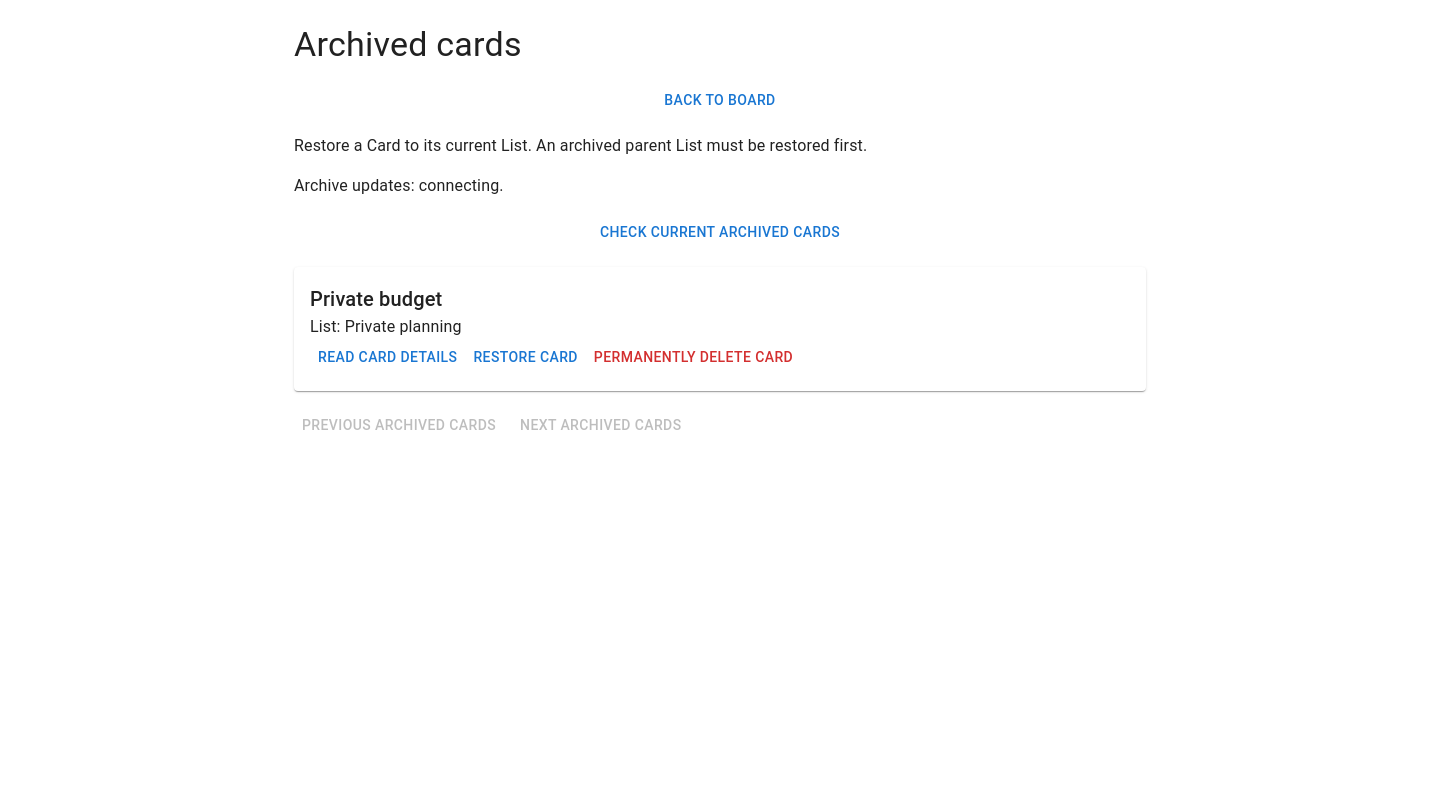
Test case: reports card deletion conflict without treating it as success
Click the button with aria-label "Permanently delete Private budget card" at (693, 357), box [586,339,801,376]
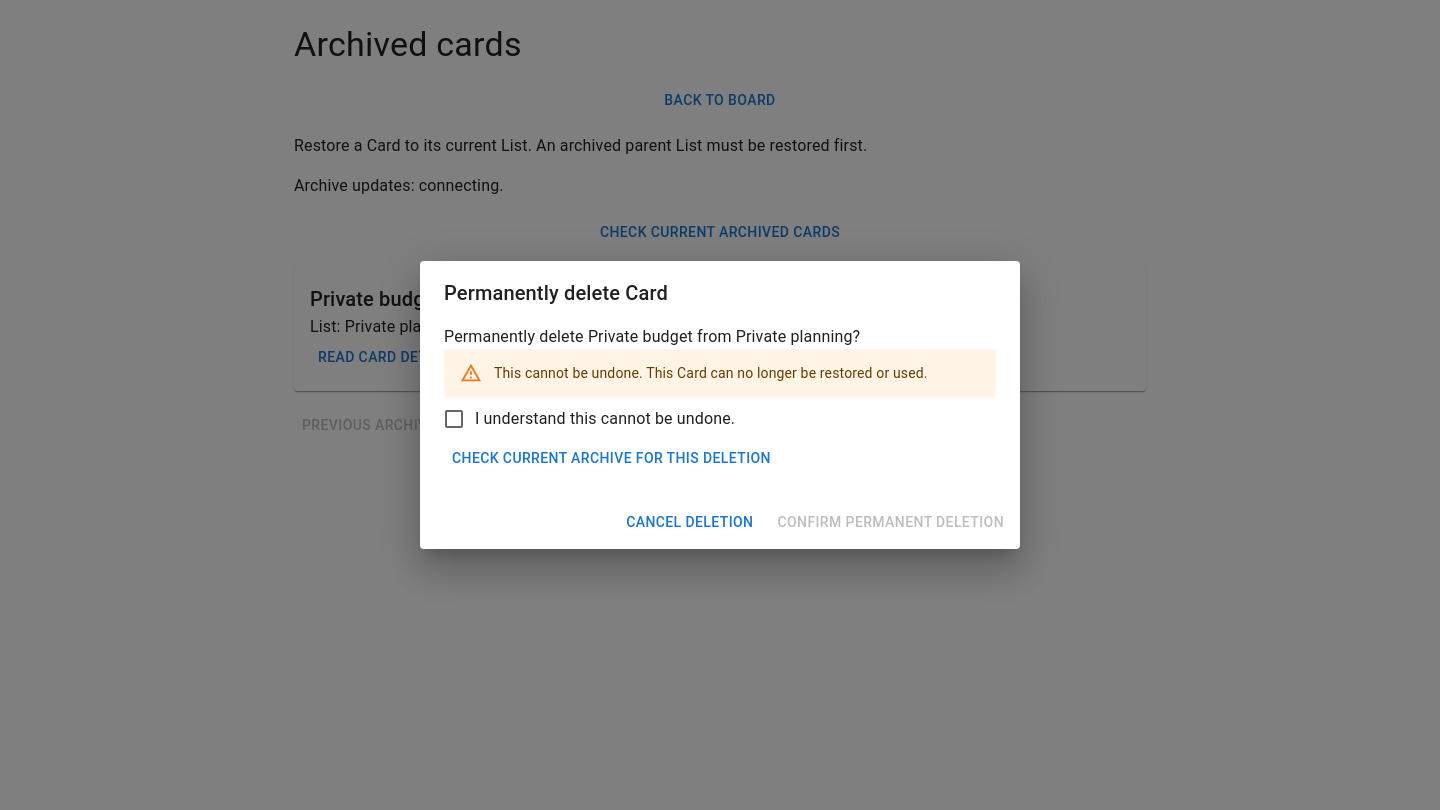
Click the checkbox labelled "I understand this cannot be undone." at (589, 418), box [442,406,735,430]
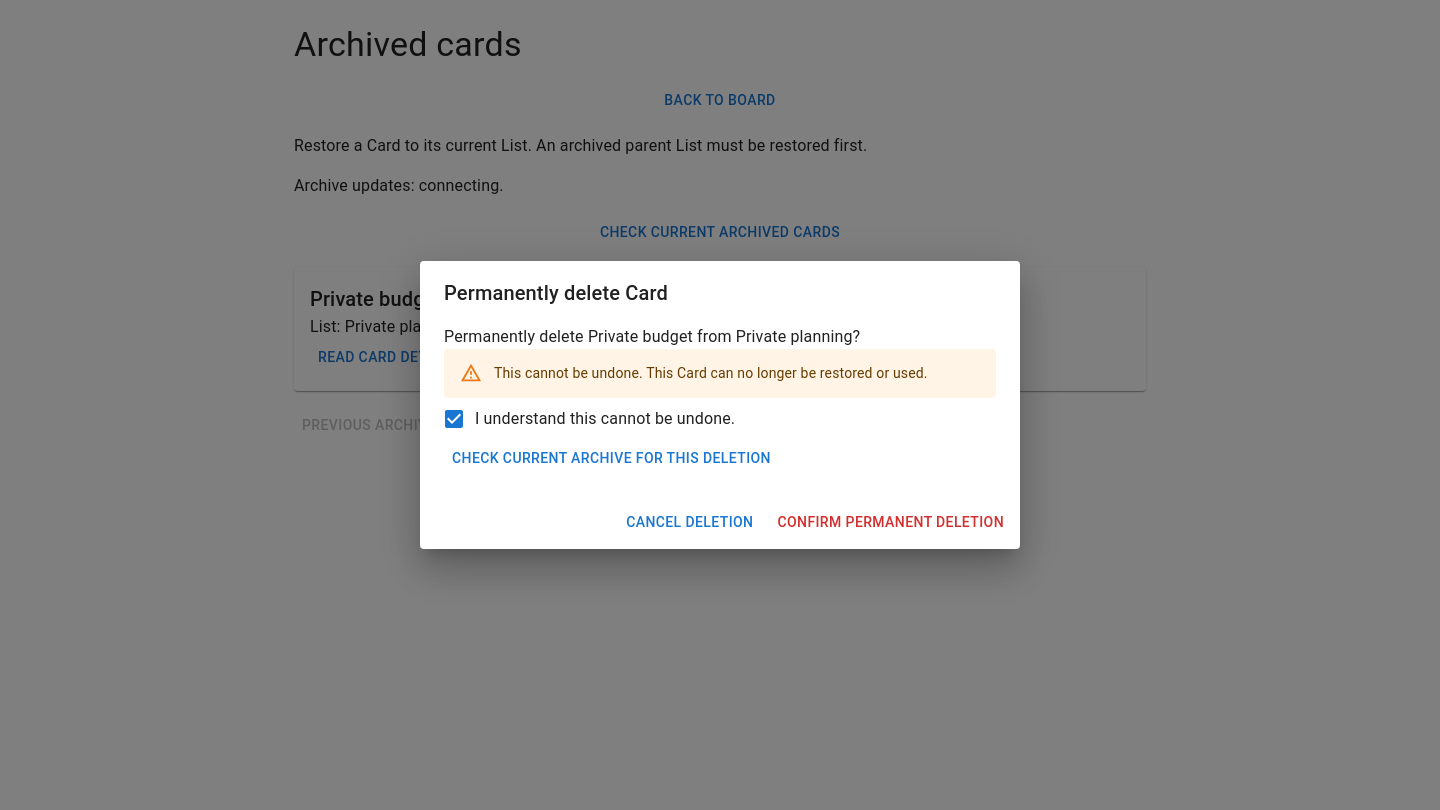
Click the button "Confirm permanent deletion" at (891, 522), box [769,504,1012,540]
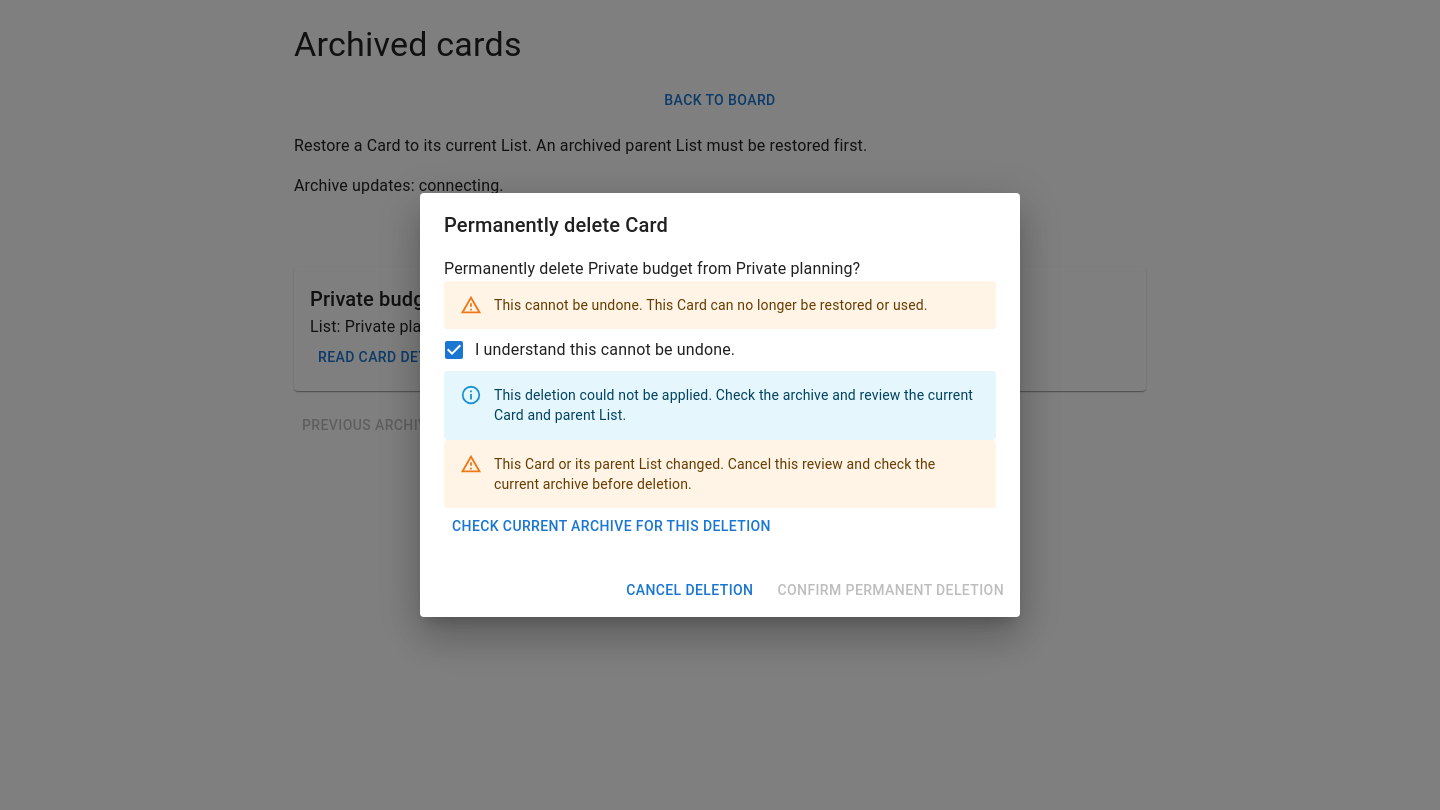
Check: the text "This deletion could not be applied. Check the archive and review the current Card and parent List." is shown, box [494,388,973,424]
